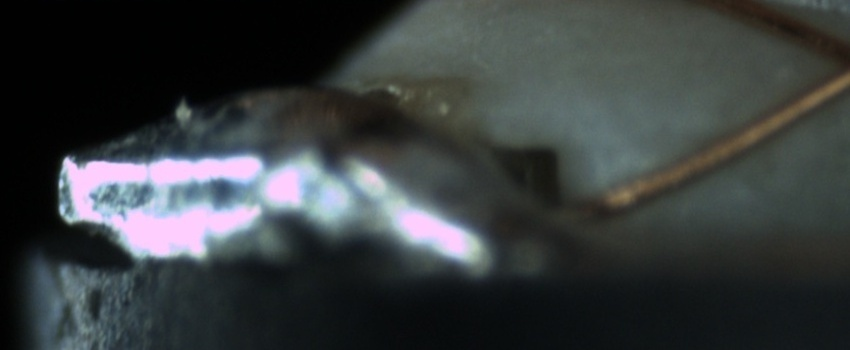CL: (808, 21, 850, 101)
